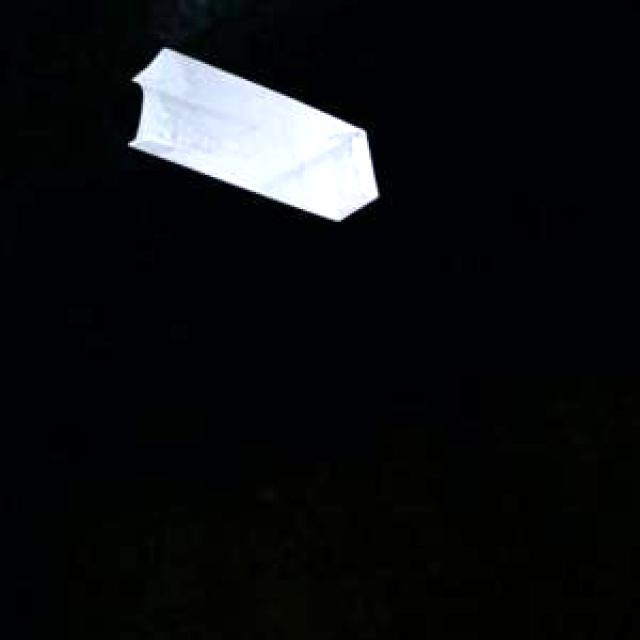Plastic_Bag: (126, 45, 374, 216)
